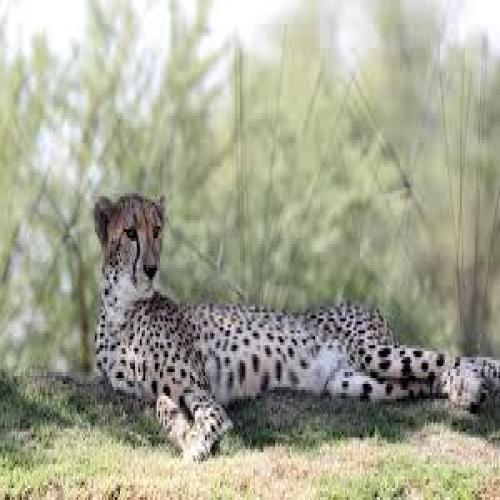cheetah-endangered: (91, 189, 500, 460)
